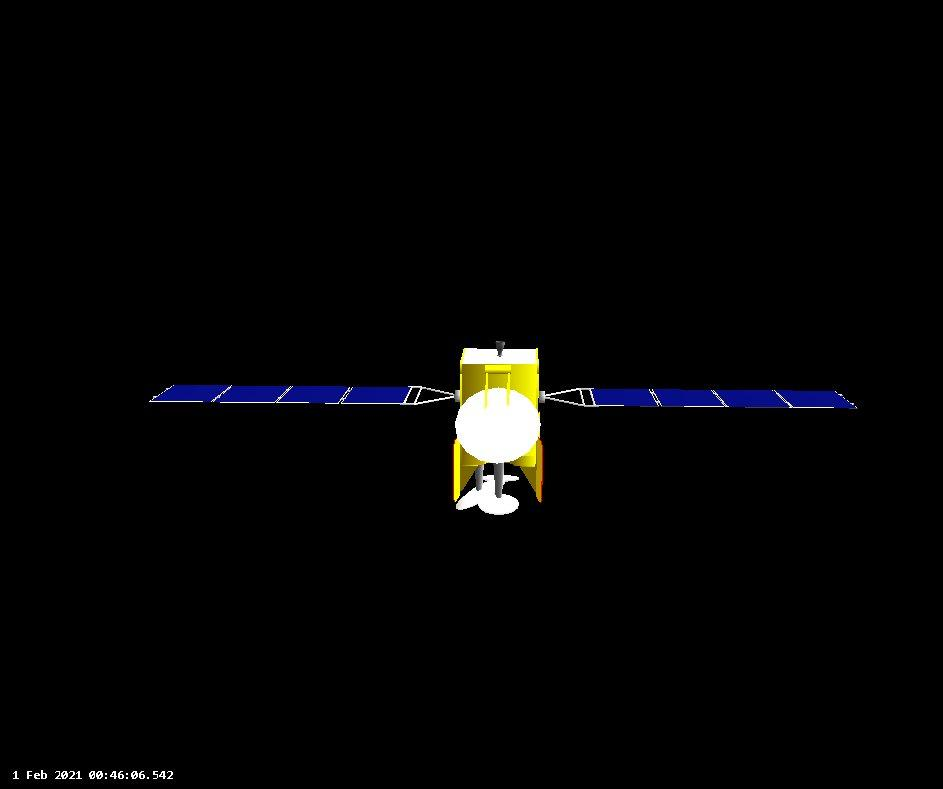antenna: (454, 386, 544, 462), (479, 491, 523, 517), (452, 487, 487, 514), (478, 470, 525, 487)
body: (450, 344, 545, 468)
solar: (146, 376, 460, 412), (539, 379, 864, 413)
thruster: (490, 336, 511, 359)
